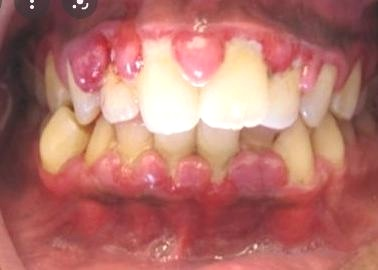Gingivitis: (84, 197, 300, 243), (71, 37, 111, 91), (236, 153, 283, 191)
